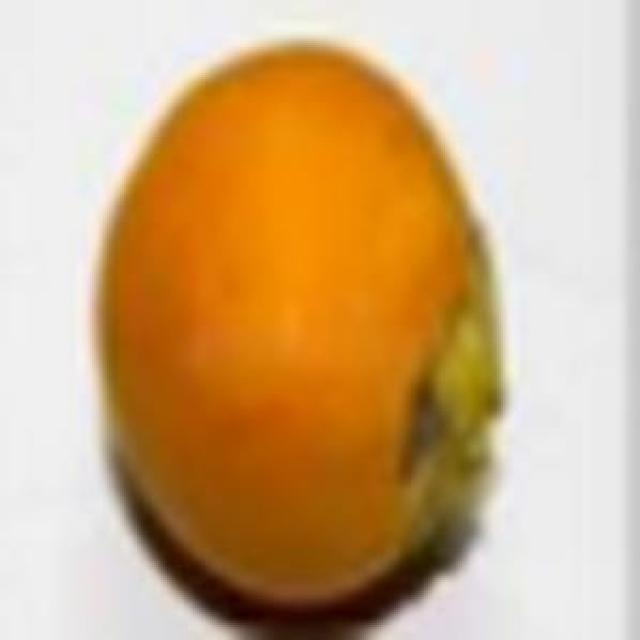good: (90, 41, 514, 627)
